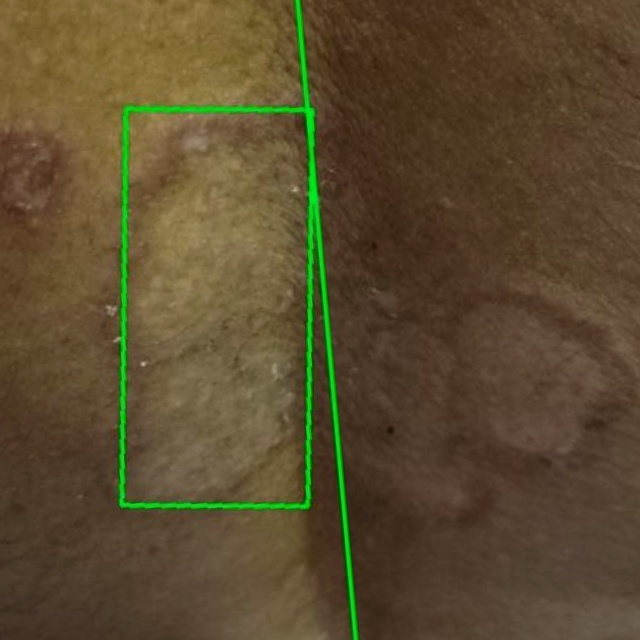Tinea Corporis: (0, 0, 355, 639), (121, 109, 311, 507)
